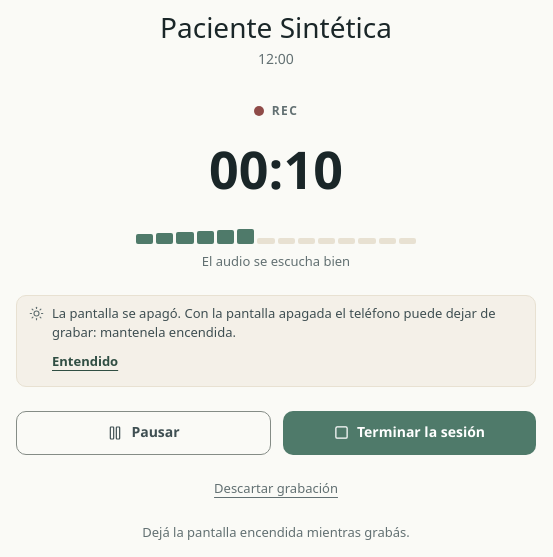
Scenario: si la pantalla se apaga grabando, el aviso queda hasta que ella lo cierra
Check: the text "La pantalla se apagó. Con la pantalla apagada el teléfono puede dejar de grabar: mantenela encendida." is shown, box x1=52 y1=304 x2=496 y2=341
Click the button "Entendido" at (85, 362), box x1=52 y1=346 x2=118 y2=378
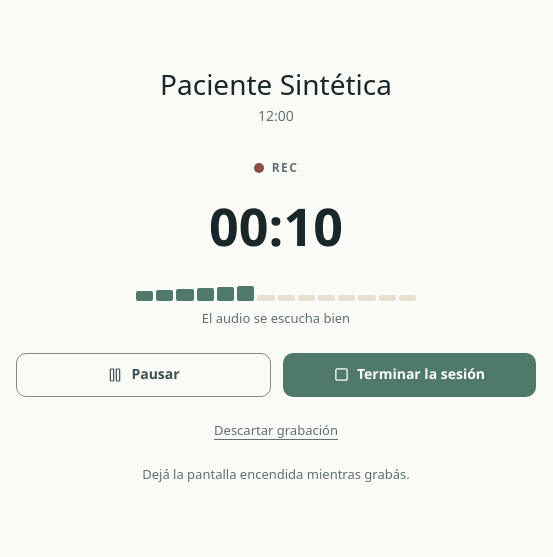
Check: the text "La pantalla se apagó. Con la pantalla apagada el teléfono puede dejar de grabar: mantenela encendida." is gone
